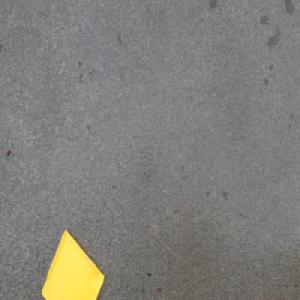PlasticPart: (40, 227, 106, 300)
